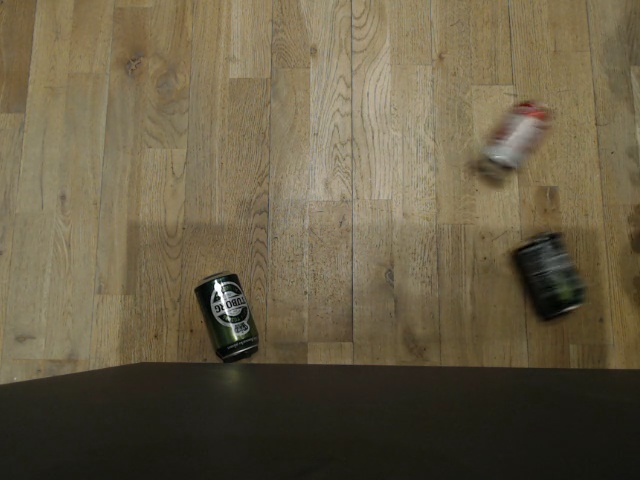beer: (510, 234, 585, 318), (195, 269, 259, 362)
cola: (476, 100, 548, 179)
